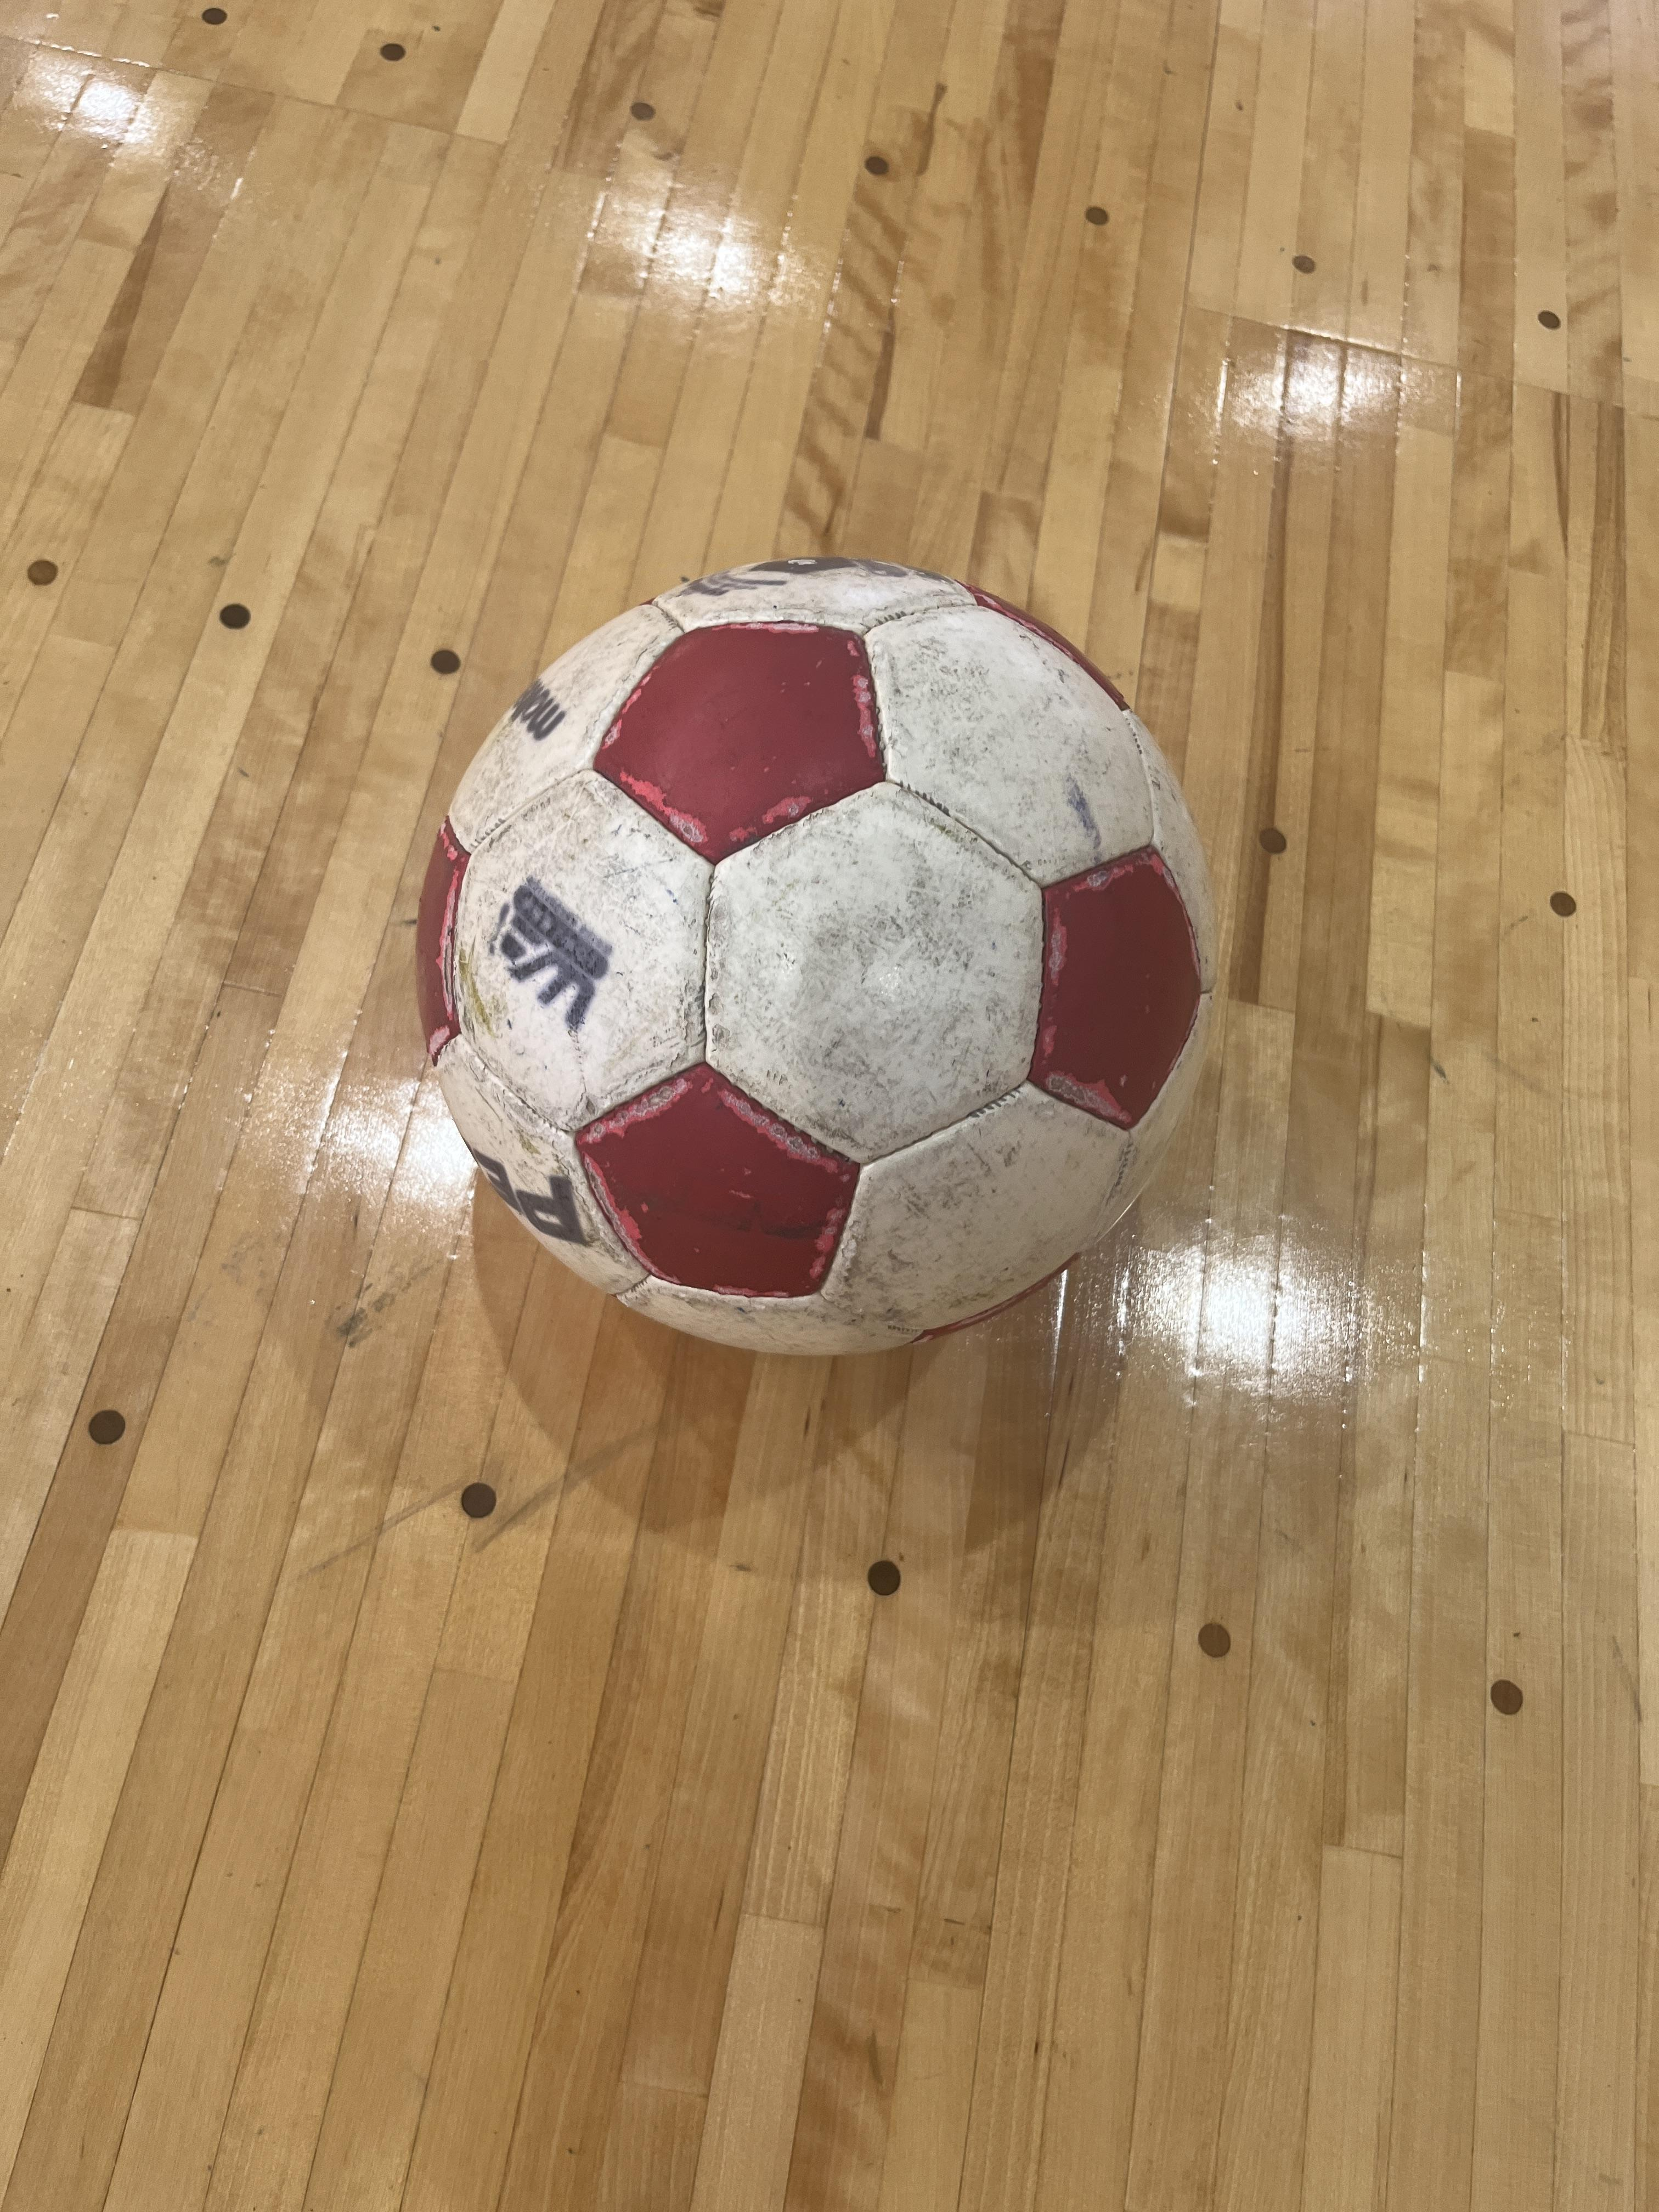Sports-Ball: (406, 557, 1215, 1367)
